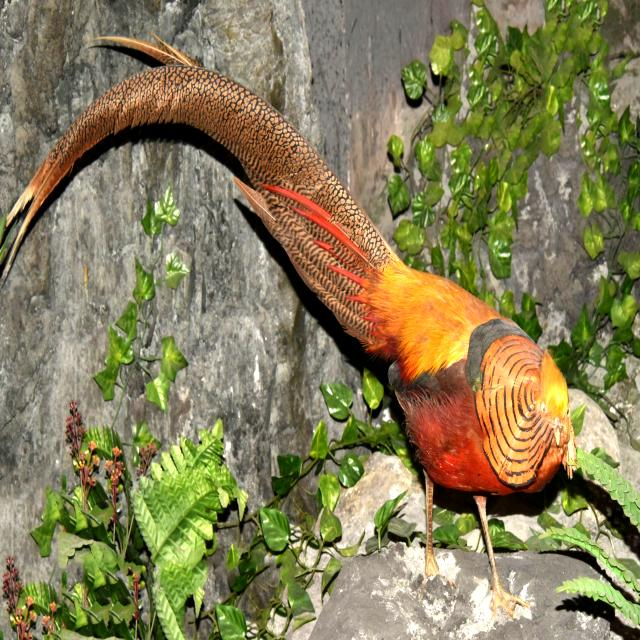Chrysolophus pictus feather: (9, 64, 399, 341)
